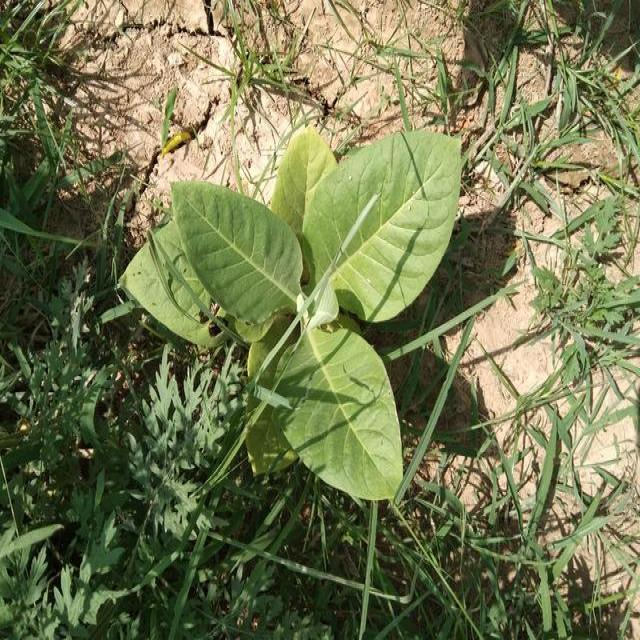crop: (145, 129, 463, 504)
